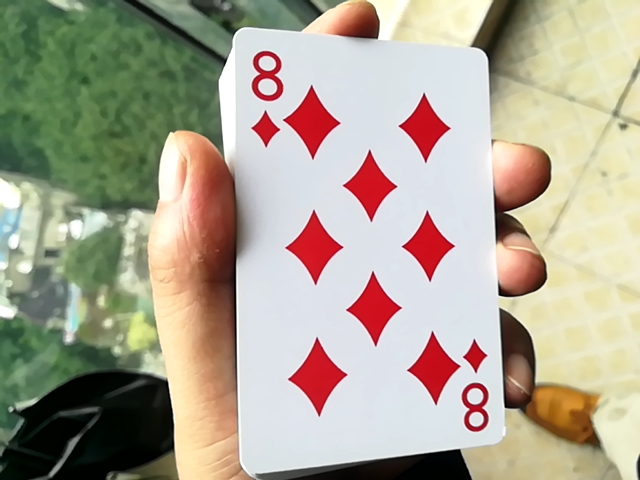fk 8: (215, 8, 496, 473)
